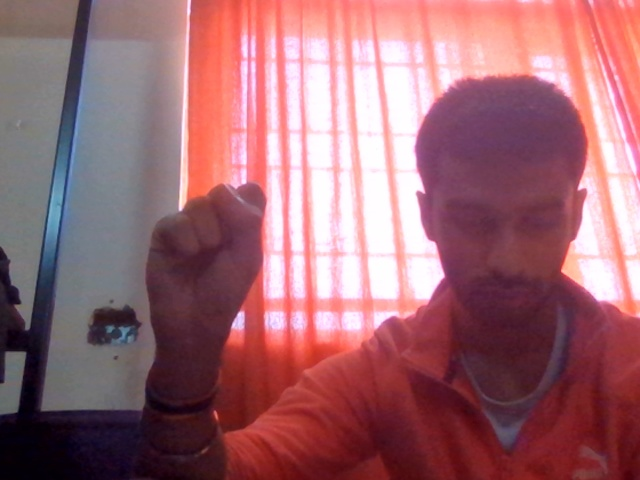S: (111, 163, 324, 382)
